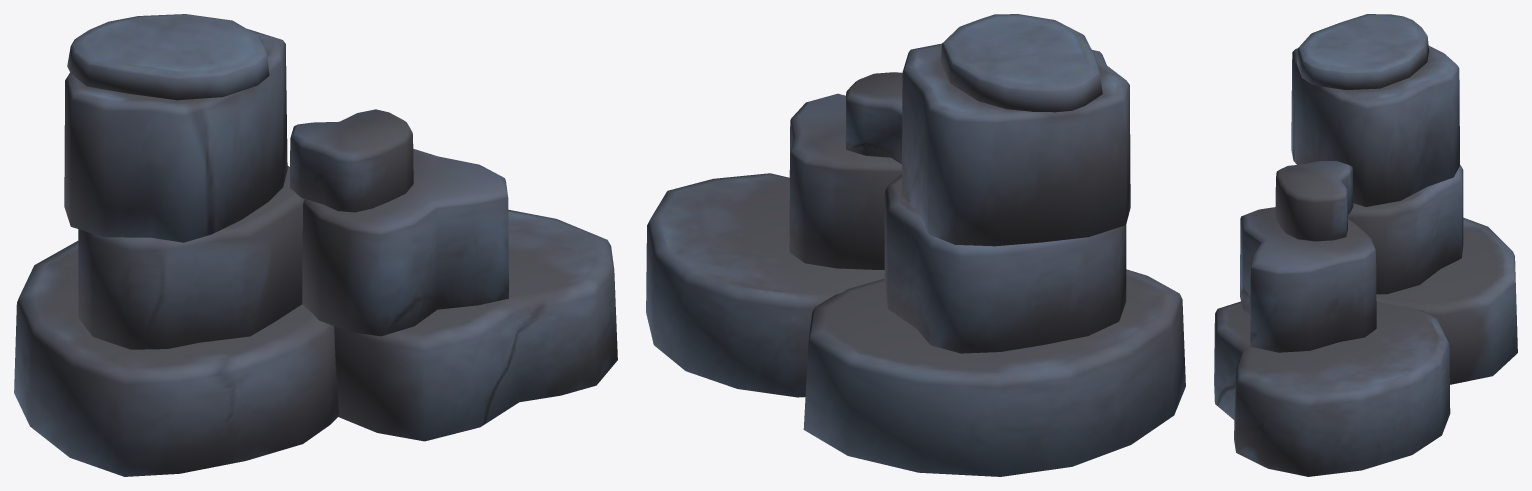
The model's file is rock_2.fbx.
3 views of the same model, side by side, from view 1: azimuth 30°, elevation 25°; view 2: azimuth 150°, elevation 25°; view 3: azimuth 270°, elevation 25° (orthographic). The views are drawn at different scales.
Visible parts, largest first — view 1: rock_2; view 2: rock_2; view 3: rock_2.
Boxes of the visible parts, left/top/right/bottom form: rock_2: left=14, top=14, right=617, bottom=476; rock_2: left=646, top=14, right=1185, bottom=476; rock_2: left=1214, top=14, right=1517, bottom=476.
Bounding box in the file's own units: 133 × 87.39 × 85.13.
